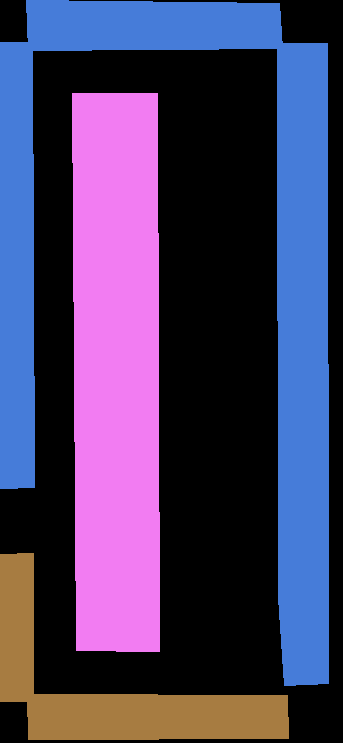parkingspot: (277, 43, 328, 685), (72, 93, 119, 650), (114, 93, 159, 651), (0, 42, 34, 488), (26, 0, 282, 50), (27, 694, 288, 739), (0, 553, 33, 701)
